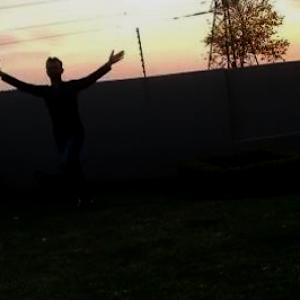takeoff: (2, 57, 128, 198)
